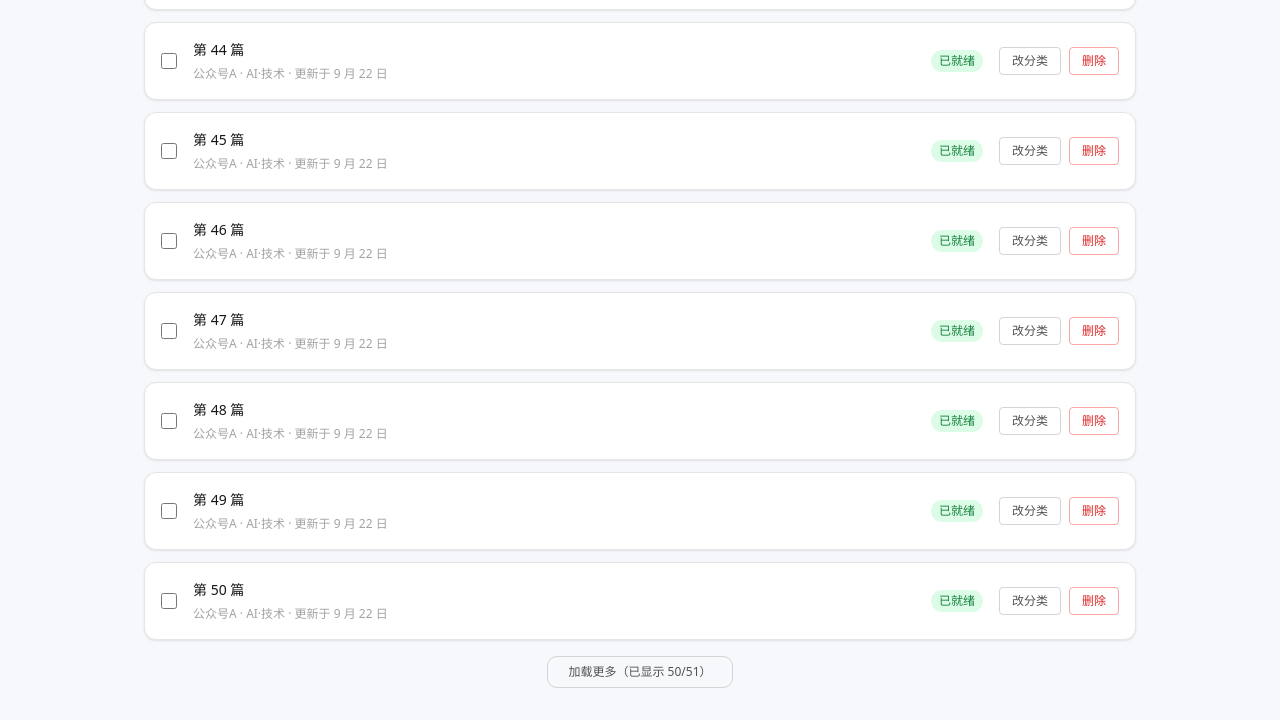
Scenario: R0.2.6 批量改分类：整批原子 › 跨批执行中某批被整体拒绝：已生效篇如实呈现、被拒批次逐批列出
(page scrolled)
Click the button "加载更多（已显示 50/51）". click: click(640, 672)
box: [548,656,732,688]
(page scrolled)
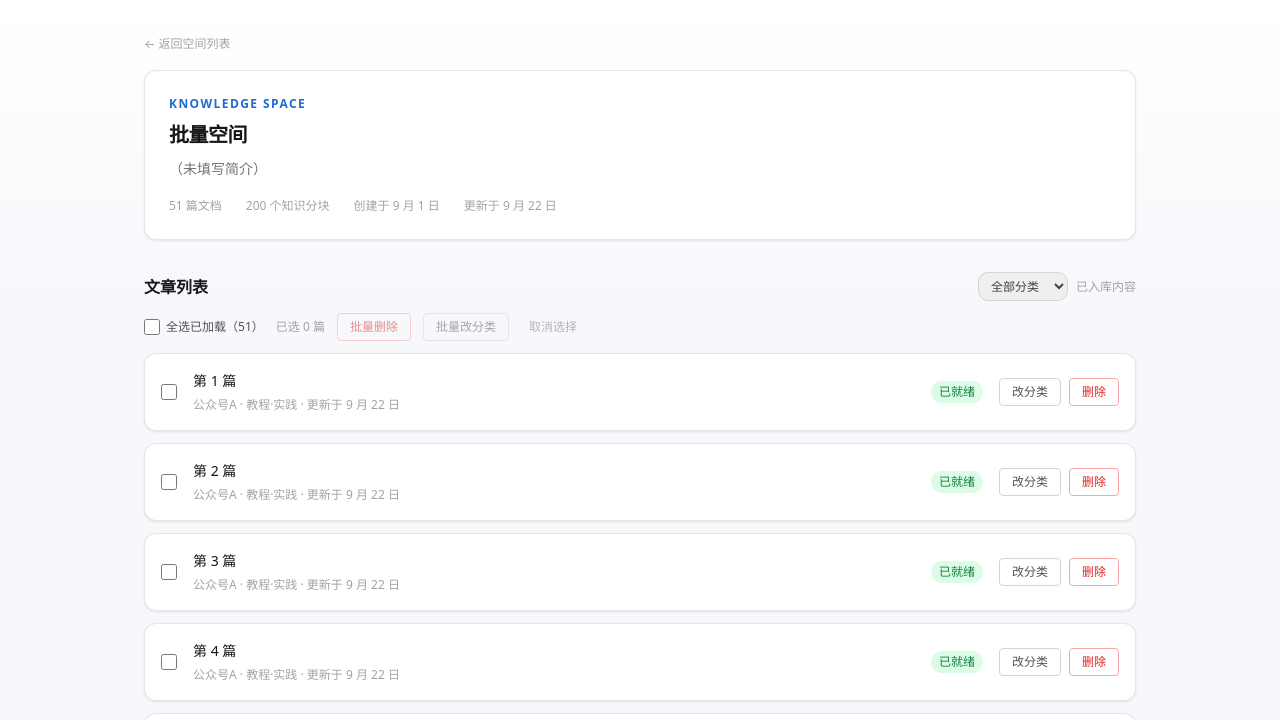
Click the checkbox labelled "全选已加载". click: click(152, 327)
box: [144,319,160,335]
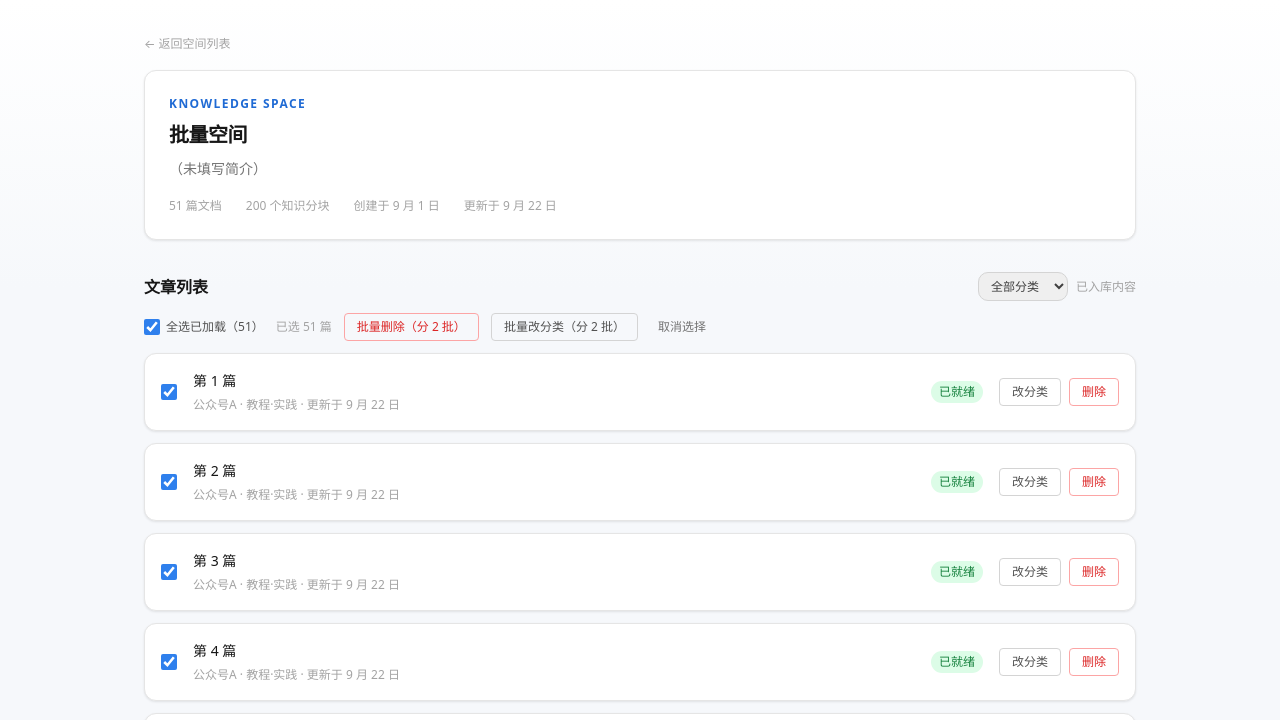
Click the button "批量改分类（分 2 批）". click: click(564, 327)
box: [491,313,638,341]
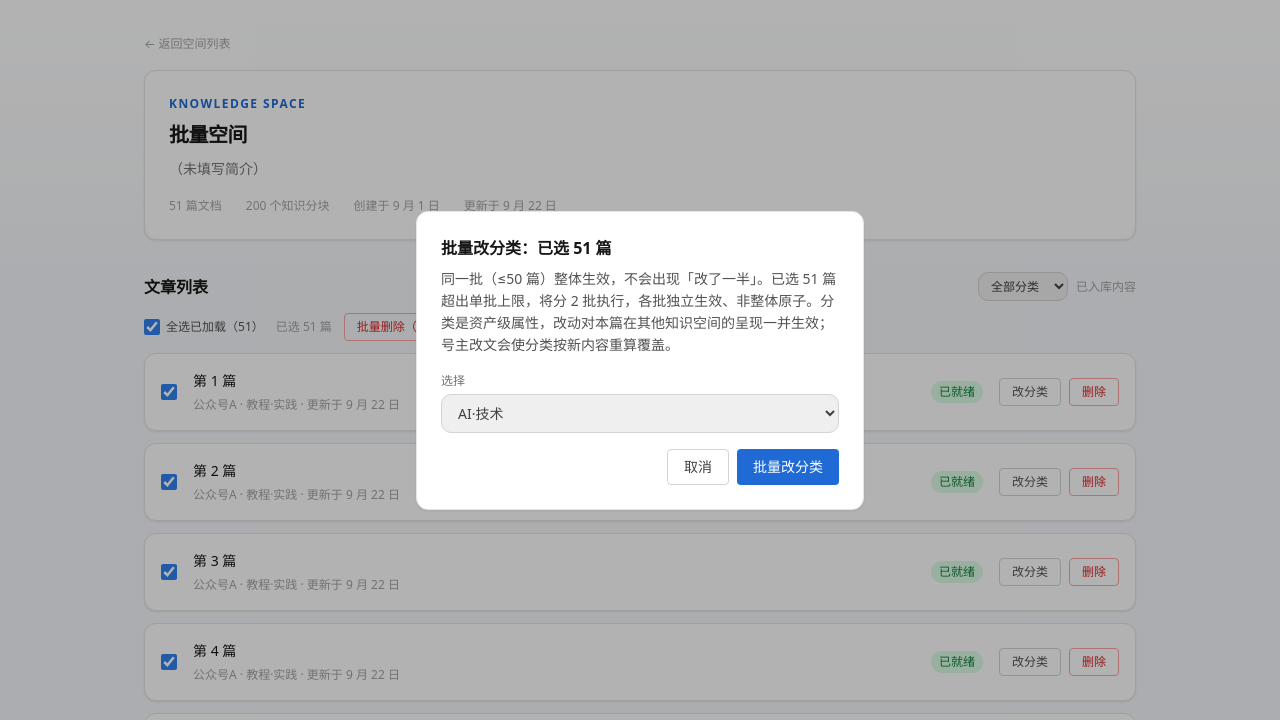
Select "教程·实践" in the dropdown labelled "选择". click: (640, 413)
box: [441,394,839,432]
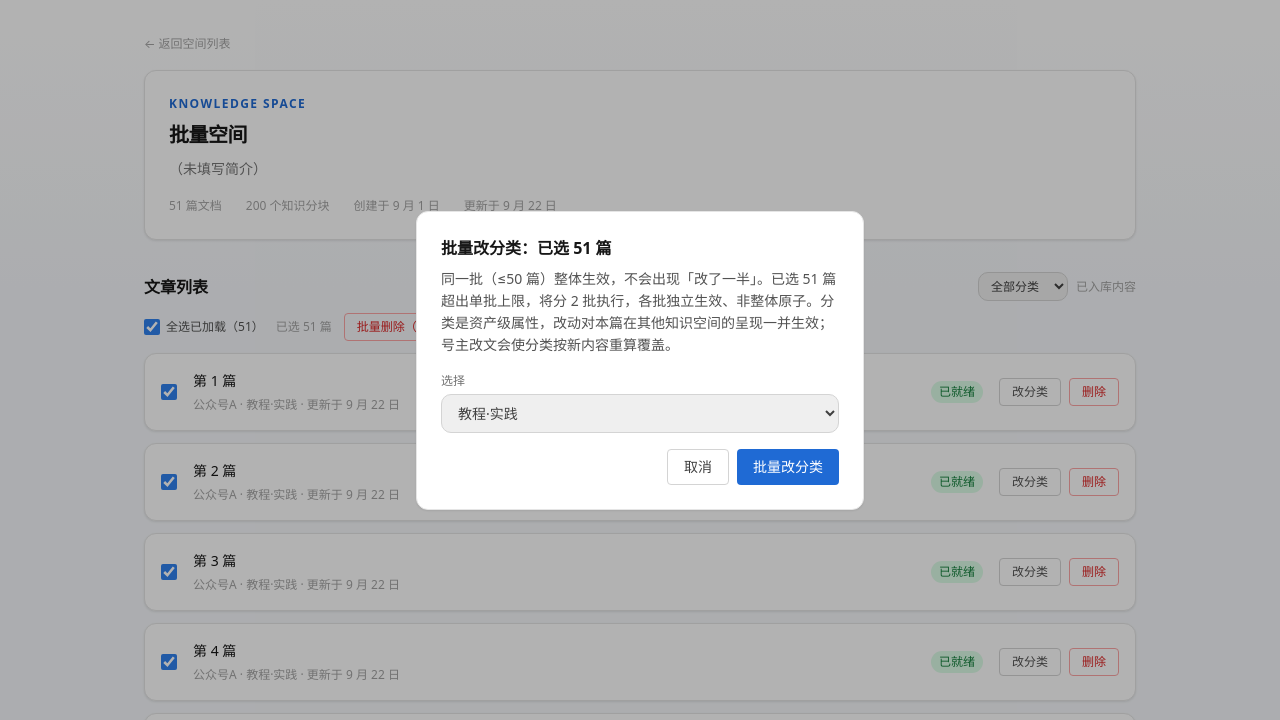
Click the button "批量改分类". click: click(788, 466)
box: [737,448,839,484]
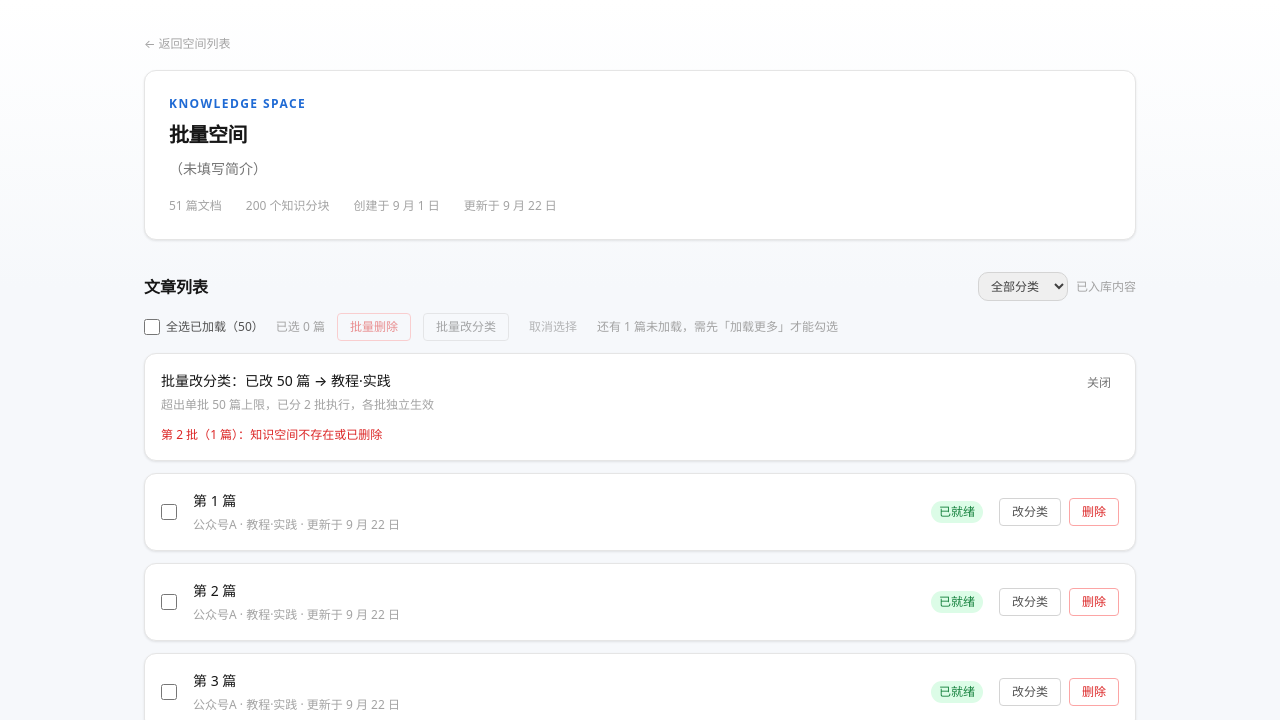
expect the text "批量改分类：已改 50 篇 → 教程·实践" is shown: met, box [161,371,391,390]
expect the list item "第 2 批（1 篇）：知识空间不存在或已删除" is shown: met, box [161,426,382,443]
expect the text "超出单批 50 篇上限，已分 2 批执行，各批独立生效" is shown: met, box [161,396,434,413]
